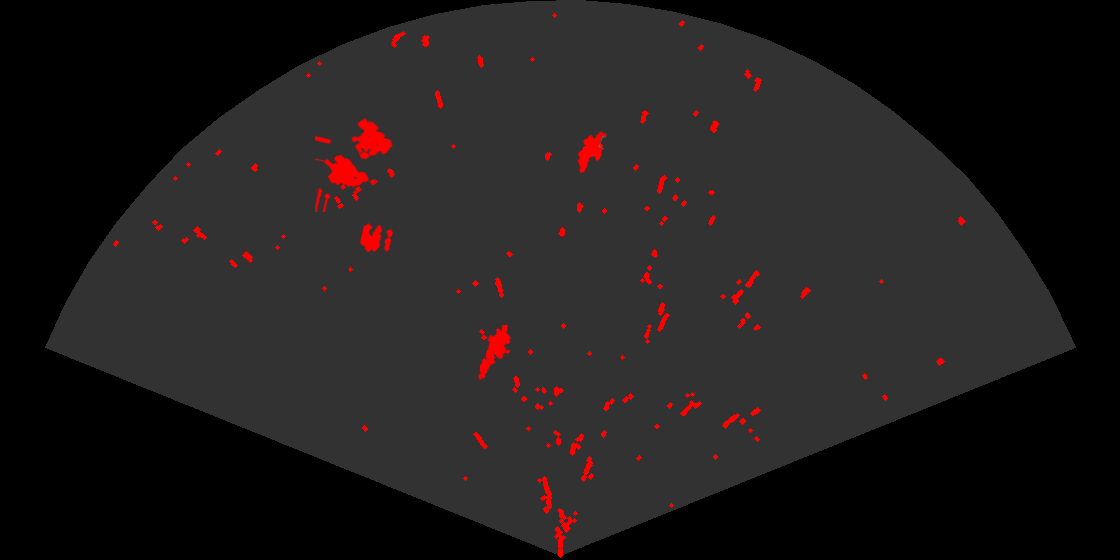AUV: (576, 130, 608, 175)
ball: (358, 222, 394, 253)
cage: (315, 116, 394, 212)
frogman: (477, 325, 513, 382)
